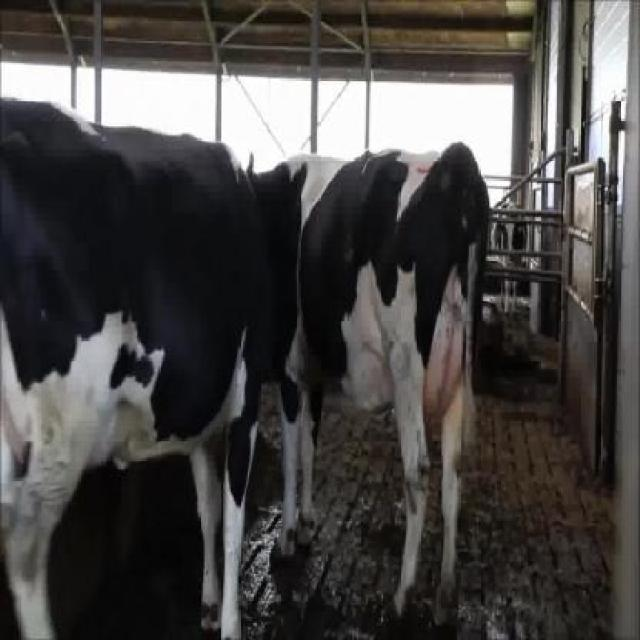Cow: (0, 96, 262, 638), (254, 138, 491, 636)
